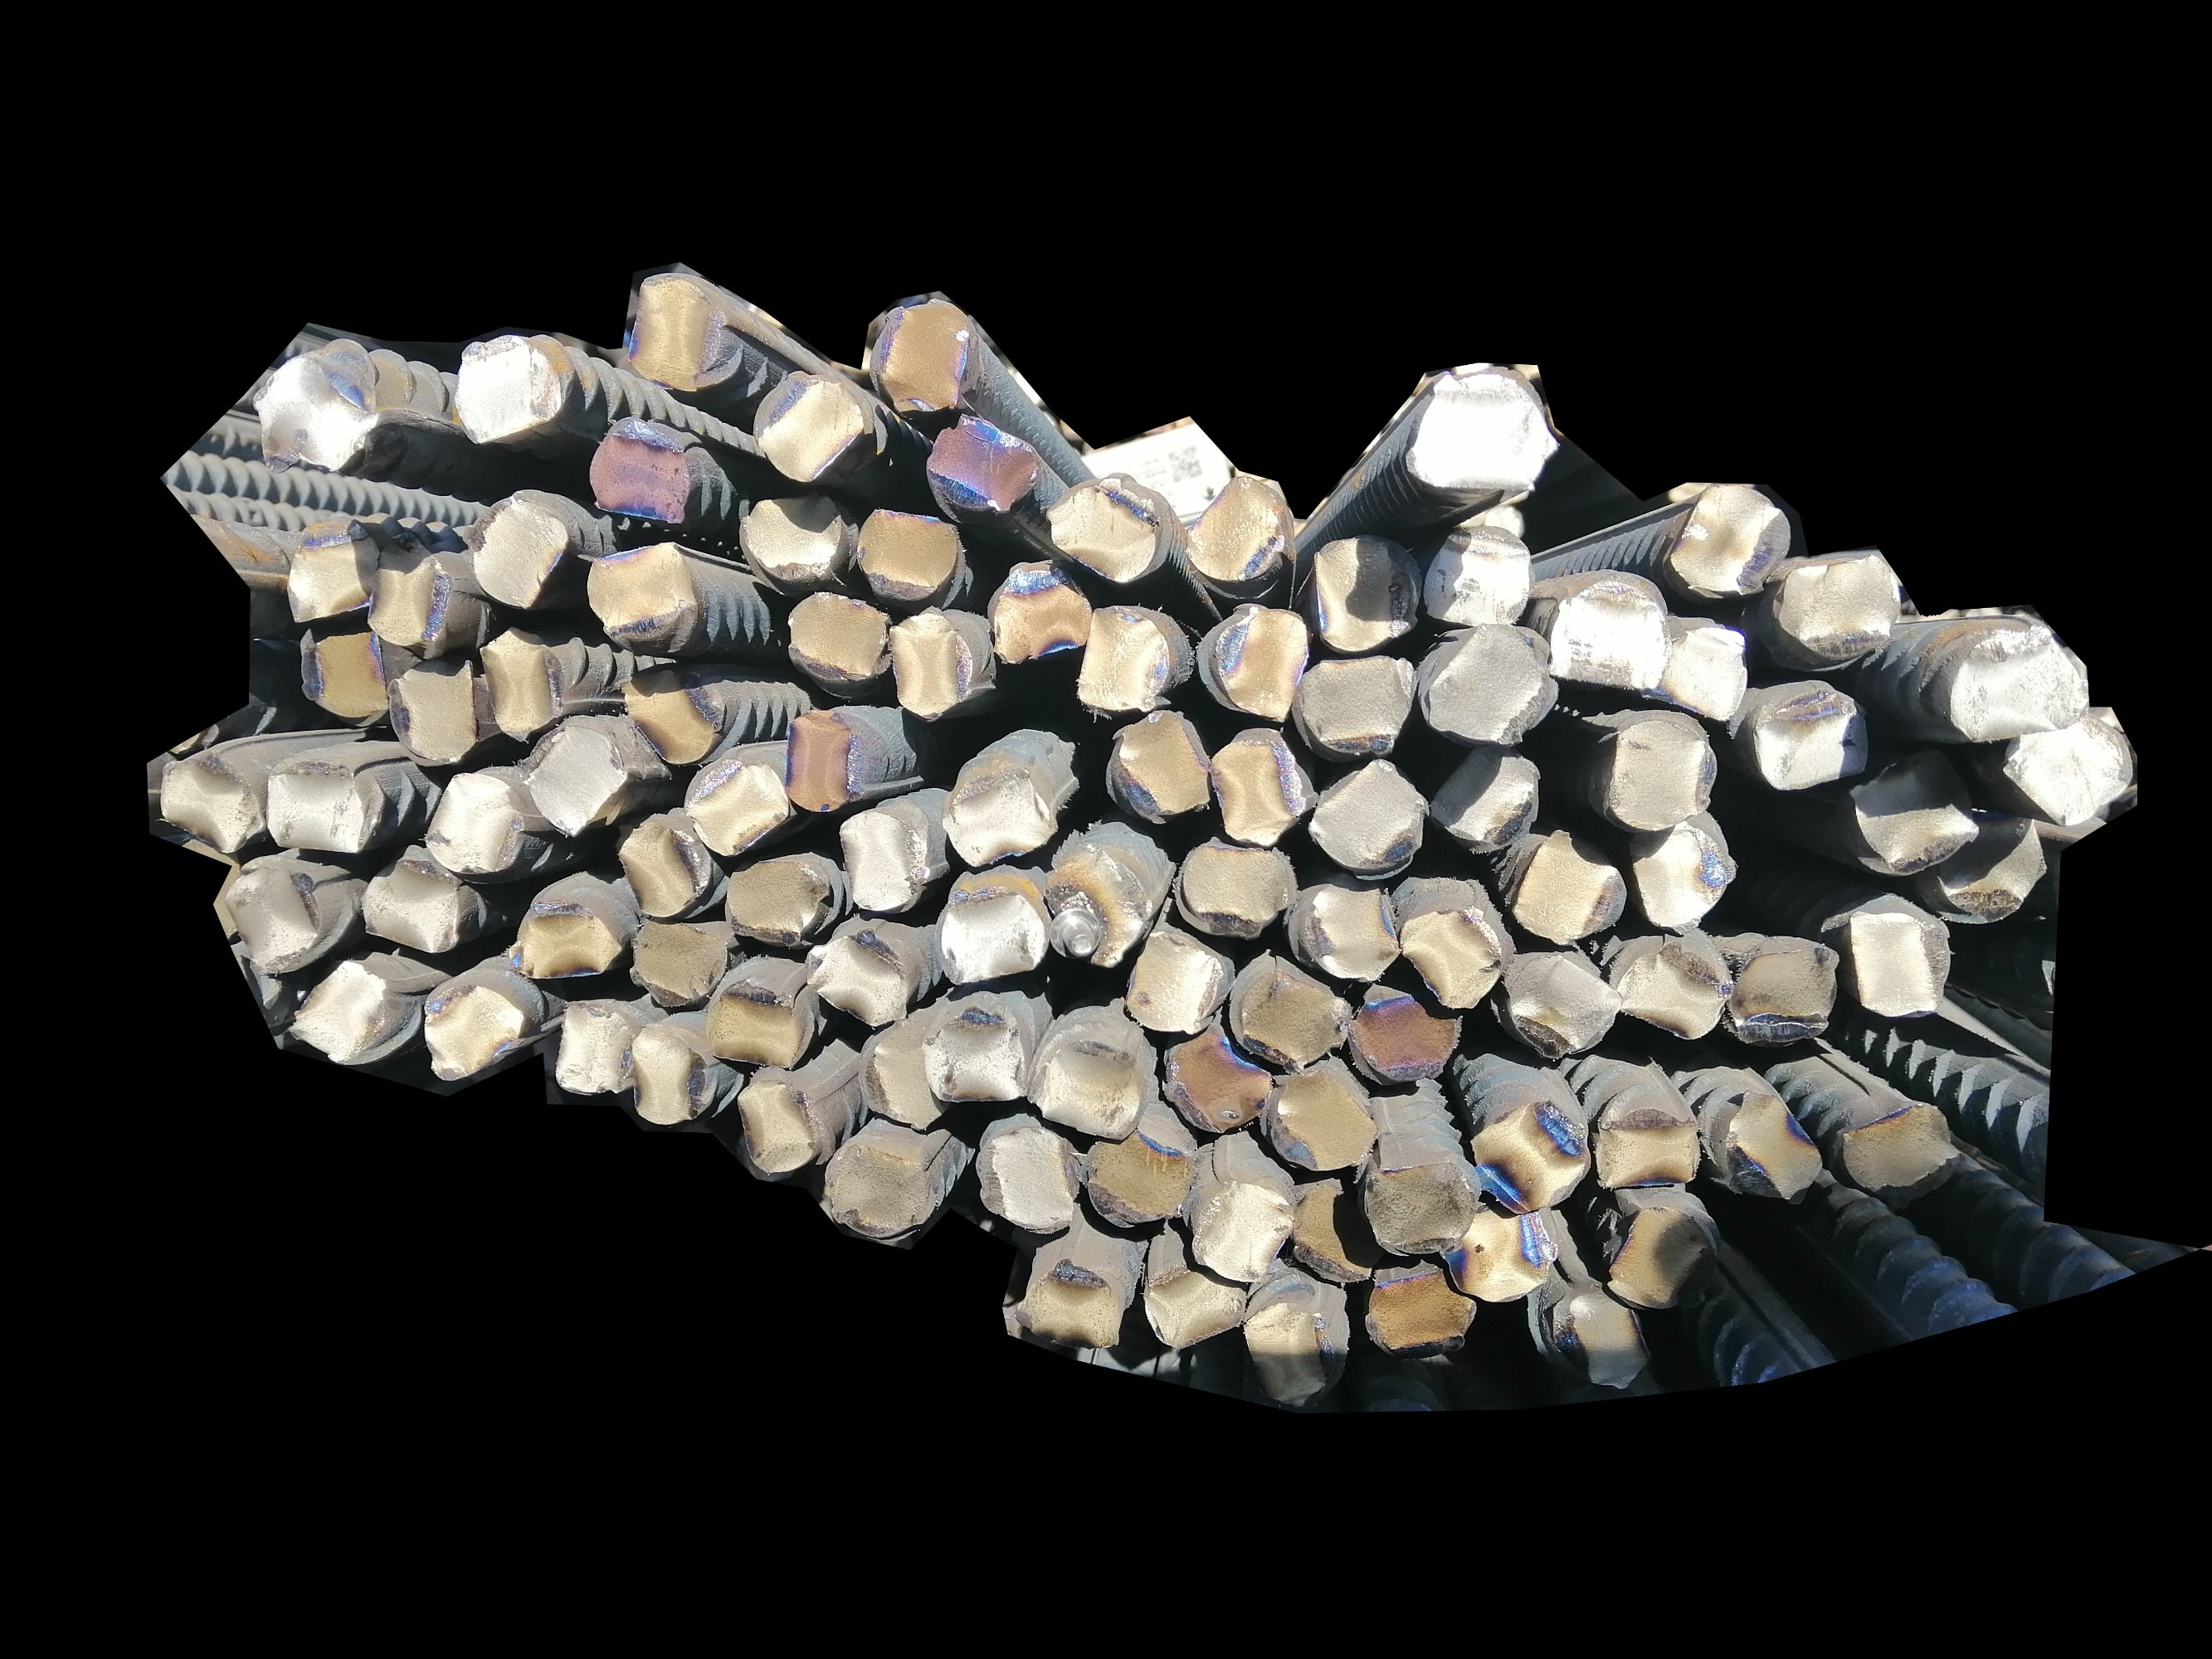rebar: (1935, 613, 2092, 749), (1401, 362, 1564, 493), (1769, 544, 1914, 671), (1534, 568, 1668, 692), (1999, 709, 2135, 829), (1422, 626, 1553, 748), (1837, 770, 1980, 880), (254, 352, 380, 474), (1027, 1023, 1154, 1141), (1035, 467, 1166, 582), (1494, 948, 1626, 1061), (1923, 817, 2057, 927), (450, 326, 572, 446), (519, 716, 634, 843), (1306, 760, 1428, 878), (966, 1112, 1082, 1236), (1471, 1098, 1595, 1215), (1666, 484, 1794, 598), (1752, 678, 1874, 795), (1598, 714, 1720, 829), (1503, 829, 1625, 945), (465, 486, 579, 610), (1529, 1286, 1658, 1394), (1288, 653, 1419, 760), (748, 366, 865, 484), (587, 537, 704, 655), (1204, 601, 1313, 728), (1835, 903, 1952, 1019), (1435, 1202, 1564, 1307), (1231, 958, 1349, 1072), (873, 293, 980, 418), (1719, 1082, 1823, 1209), (1260, 1063, 1379, 1175), (1832, 1094, 1963, 1195), (940, 760, 1062, 868), (1724, 941, 1848, 1047), (1042, 845, 1147, 971), (819, 1134, 938, 1244), (1313, 532, 1422, 650), (1424, 744, 1546, 850), (1170, 829, 1292, 936), (915, 1002, 1039, 1107), (929, 408, 1044, 519), (1178, 1168, 1290, 1283), (1417, 519, 1534, 629), (1288, 880, 1403, 990), (1609, 936, 1727, 1042), (626, 268, 723, 397), (1363, 1154, 1478, 1262), (1602, 1206, 1719, 1312), (1185, 471, 1290, 589), (582, 416, 692, 528), (1163, 1023, 1271, 1136), (422, 971, 526, 1087), (1588, 1096, 1705, 1201), (732, 486, 852, 587), (882, 601, 981, 723), (221, 863, 328, 976), (422, 765, 526, 880), (1398, 892, 1503, 1007), (258, 758, 375, 861), (1088, 1124, 1198, 1232), (1070, 605, 1177, 716), (1119, 929, 1227, 1037), (277, 514, 387, 620), (802, 929, 915, 1032), (716, 854, 831, 955), (1208, 728, 1304, 849), (157, 746, 265, 852), (682, 751, 791, 856), (992, 554, 1095, 666), (856, 497, 966, 599), (1285, 1171, 1382, 1286), (504, 897, 629, 986), (1630, 821, 1731, 931), (1116, 711, 1215, 823), (472, 617, 561, 741), (1245, 1304, 1347, 1410), (621, 911, 732, 1009), (1014, 1255, 1126, 1352), (291, 955, 387, 1068), (840, 802, 929, 924), (940, 884, 1042, 988), (1356, 986, 1461, 1089), (359, 856, 467, 955), (288, 622, 390, 725), (621, 662, 716, 772), (619, 809, 713, 920), (729, 1066, 823, 1178), (786, 584, 889, 685), (363, 530, 451, 647), (1363, 1263, 1471, 1359), (387, 652, 478, 765), (1658, 617, 1752, 723), (551, 986, 640, 1098), (858, 1018, 945, 1127), (706, 981, 809, 1072), (626, 1019, 716, 1121), (1143, 1262, 1248, 1349), (781, 709, 861, 819)
